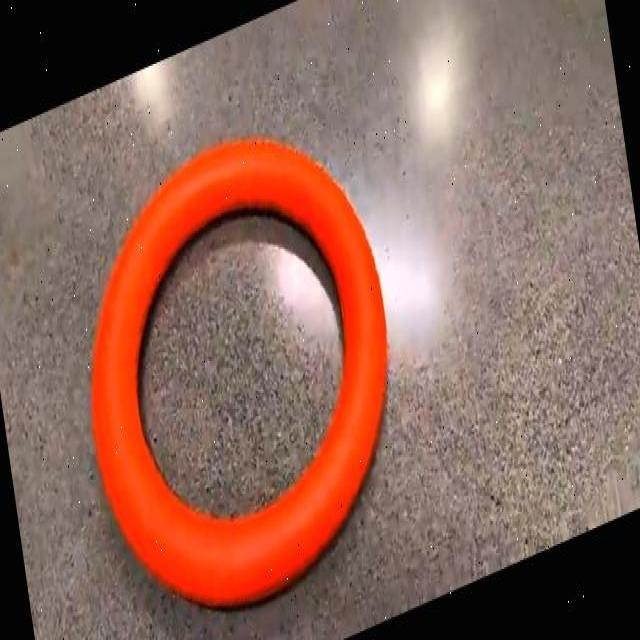note: (92, 140, 387, 606)
